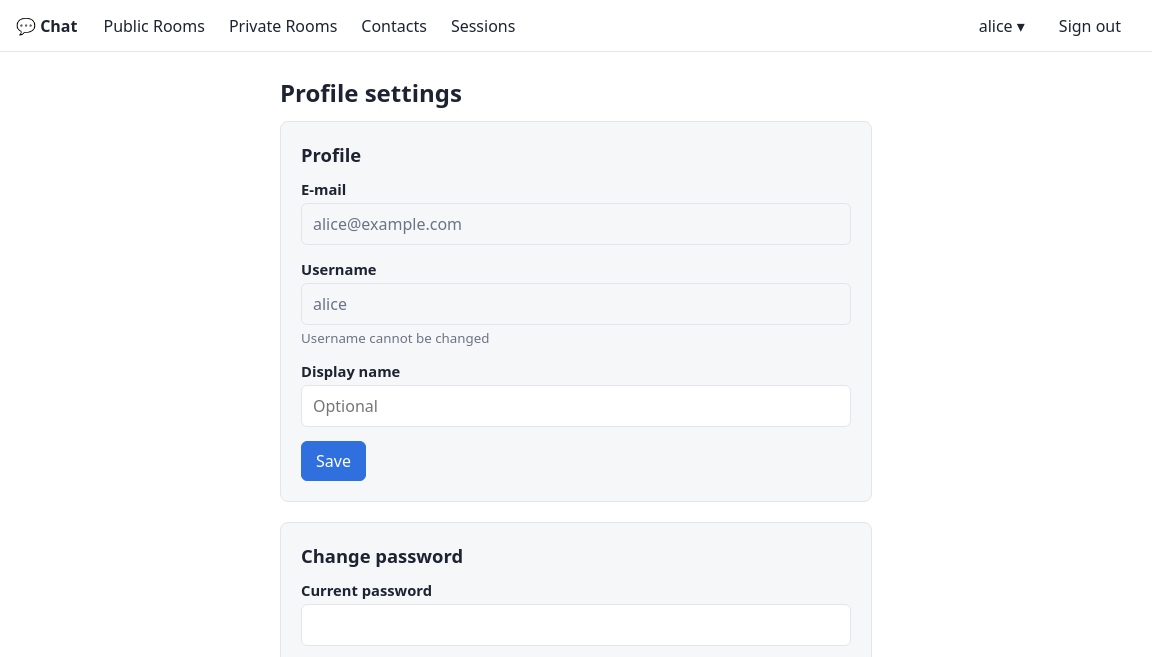
Test: profile › reports a wrong current password on the field
This screenshot has width=1152, height=657.
Type "nope" into the password field labelled "Current password" at (576, 625), box [301,604,851,646]
(page scrolled)
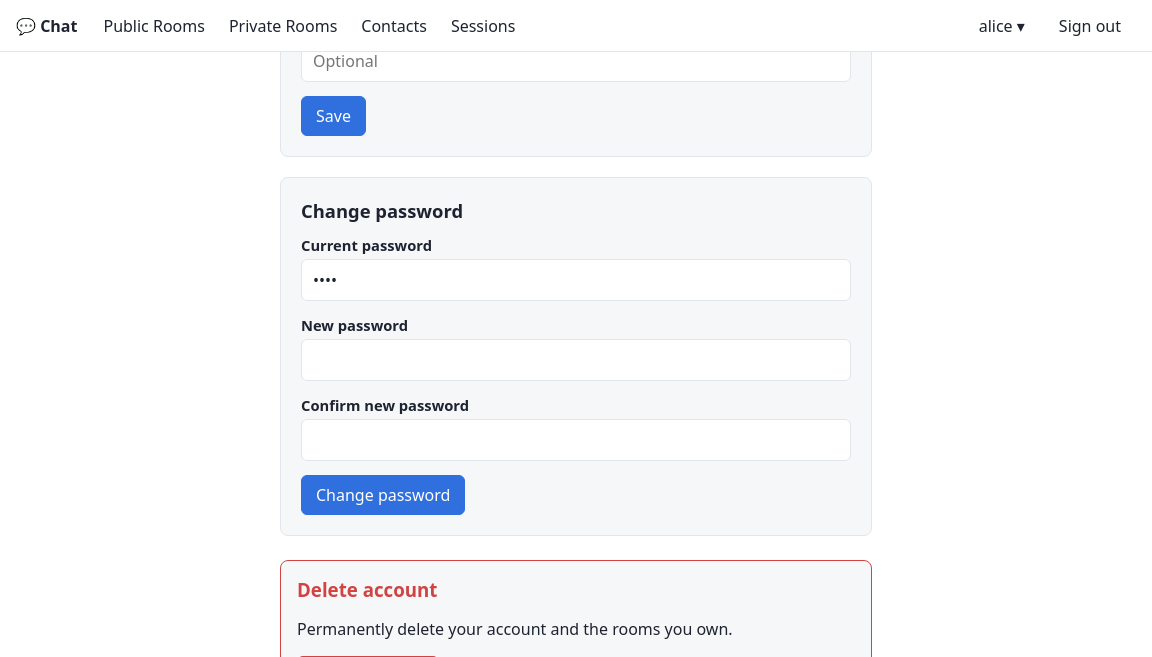
Type "brand-new-1" into the password field labelled "New password" at (576, 360), box [301,339,851,381]
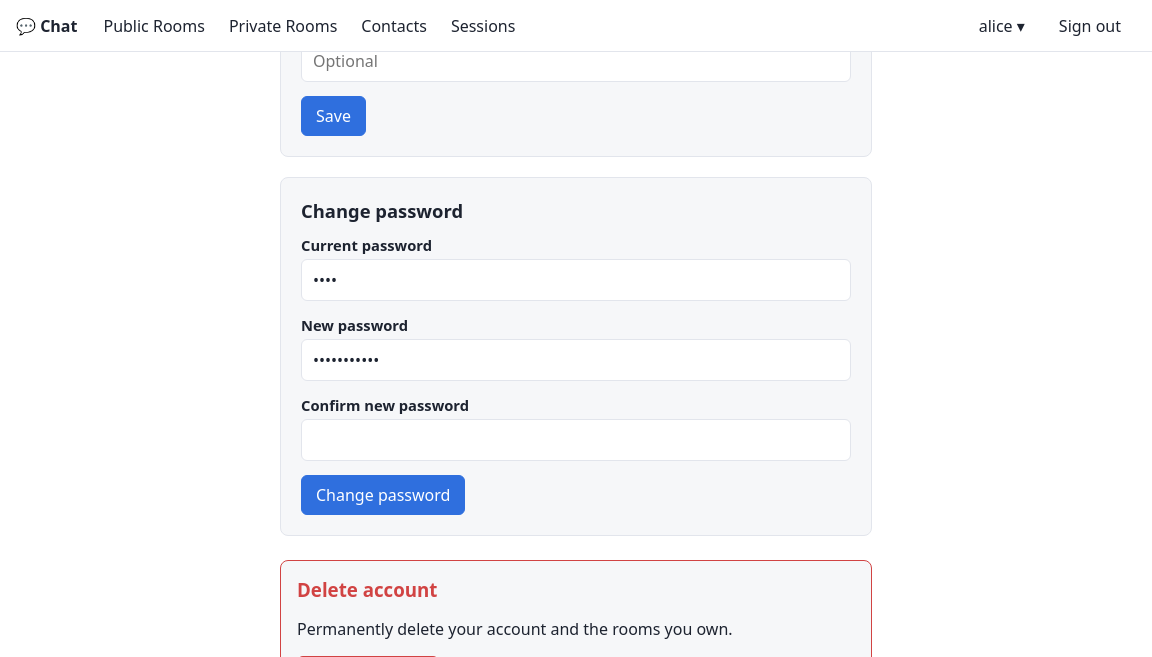
Type "brand-new-1" into the password field labelled "Confirm new password" at (576, 440), box [301,419,851,461]
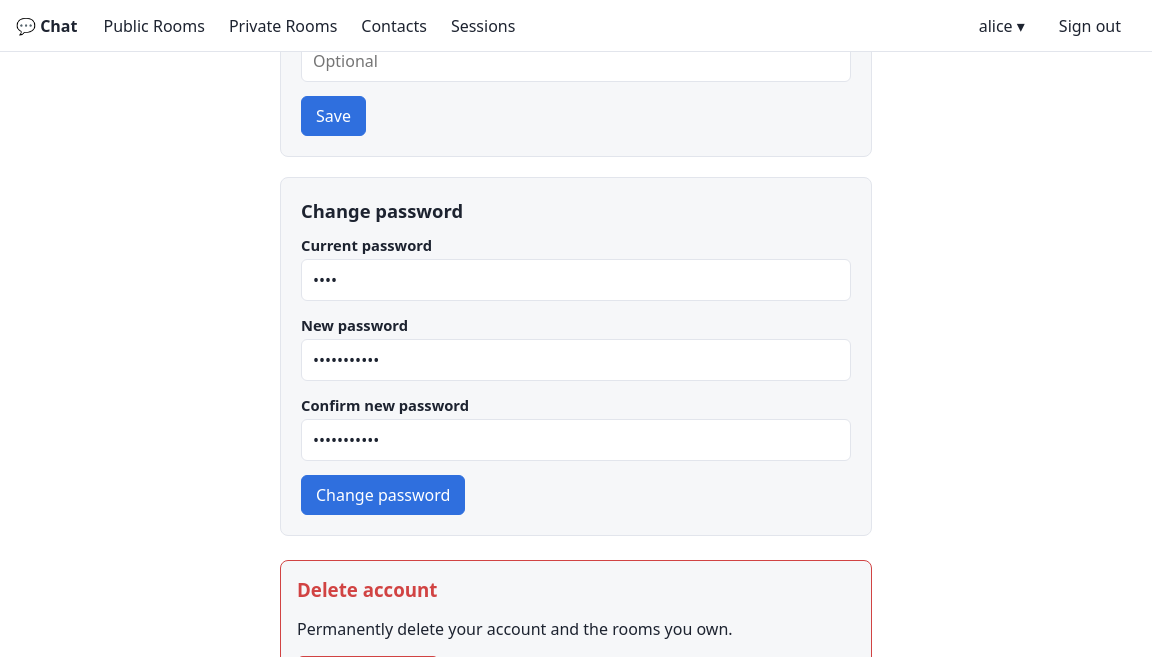
Click the button "Change password" at (383, 495), box [301,475,465,515]
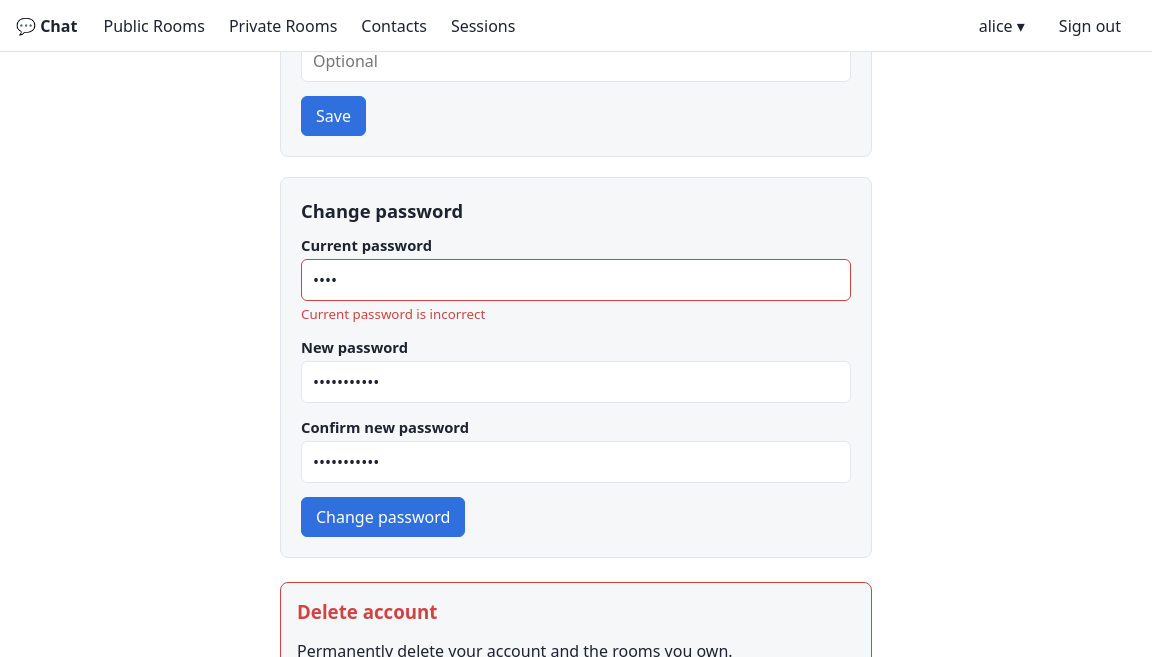
Expected: the text "Current password is incorrect" is shown, [301,305,485,323]
